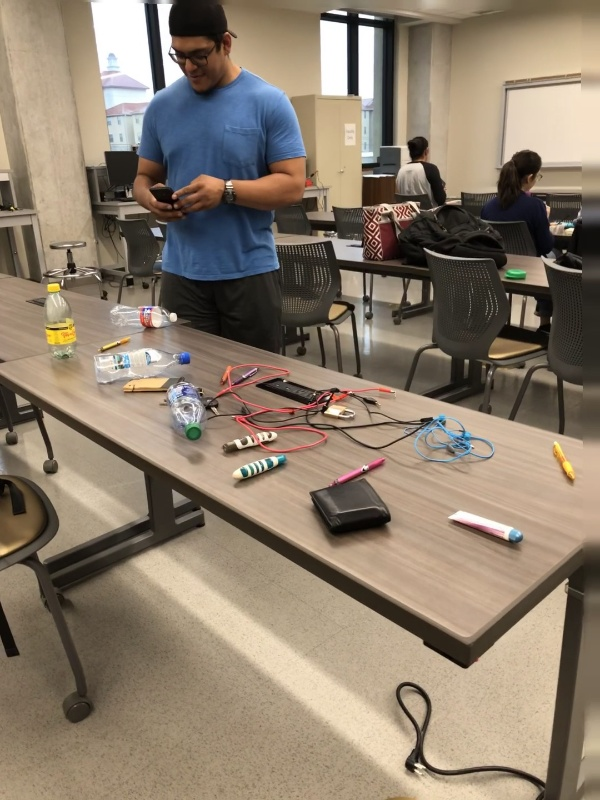bottle: (85, 346, 194, 382), (38, 281, 84, 362), (162, 377, 209, 443), (105, 302, 178, 335)
